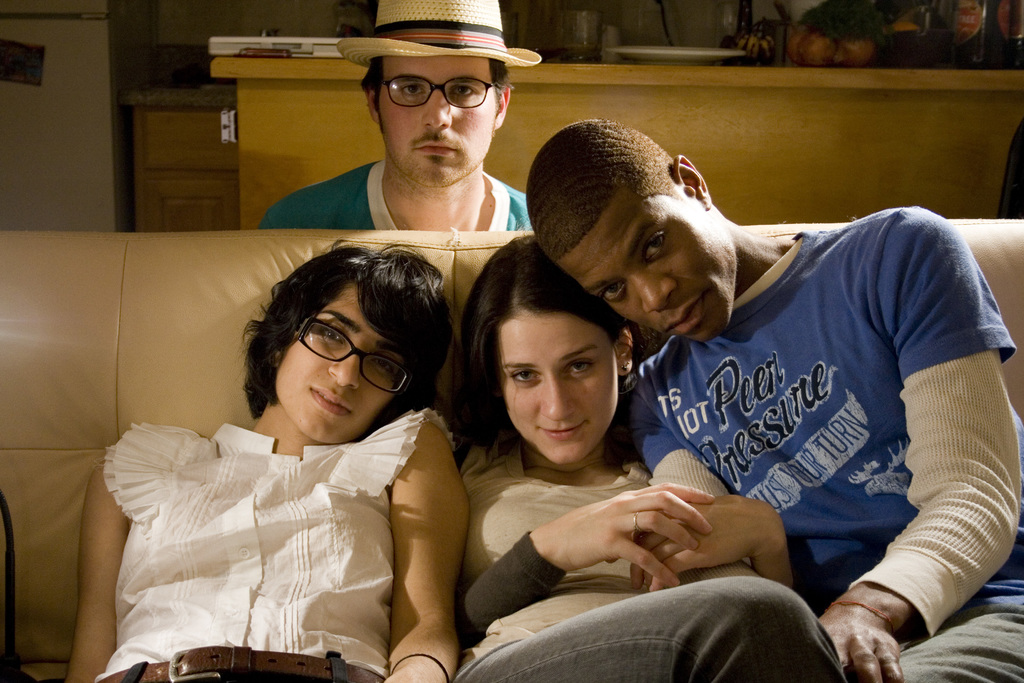Human-face: (556, 190, 735, 347), (275, 284, 410, 443), (497, 313, 618, 461), (371, 60, 500, 186)
